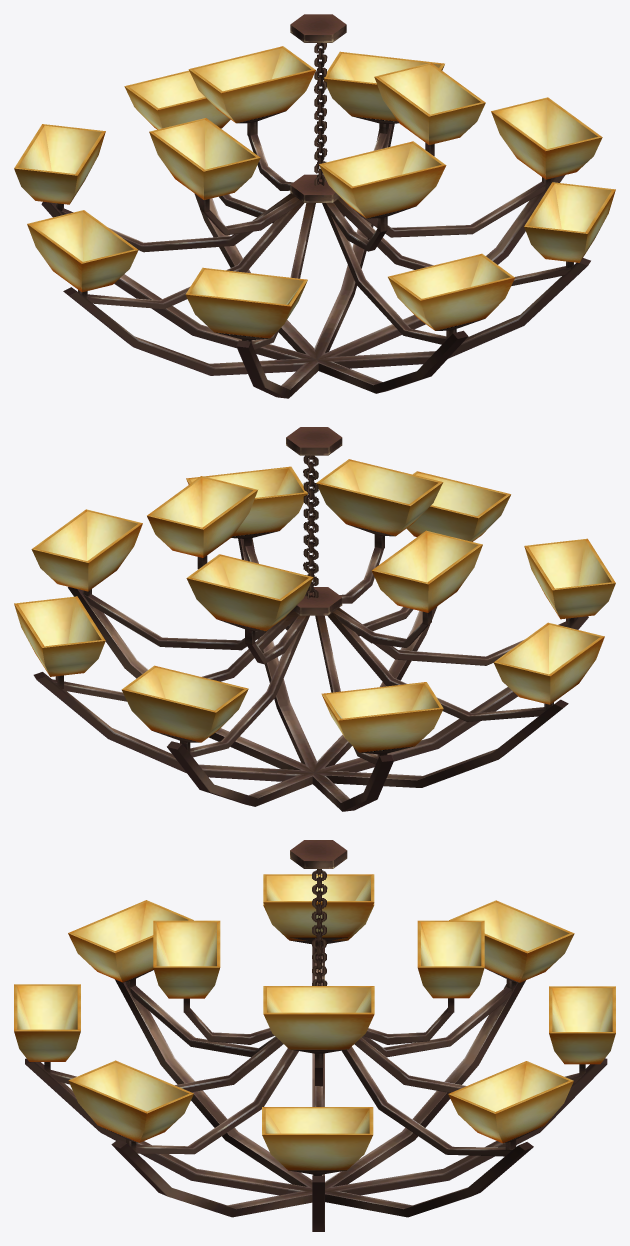
File: furni_0200703.FBX
The picture shows the model from 3 angles, top to bottom: view 1: azimuth 30°, elevation 25°; view 2: azimuth 150°, elevation 25°; view 3: azimuth 270°, elevation 25°; orthographic projection.
Visible parts, largest first — view 1: furni_0200703; view 2: furni_0200703; view 3: furni_0200703.
Boxes of the visible parts, x1,y1,x2,y2 form: furni_0200703: (14, 14, 615, 398); furni_0200703: (14, 427, 615, 811); furni_0200703: (14, 840, 615, 1231).
Bounding box in the file's own units: 127 × 80.34 × 126.
Materials: 1 (1 with a texture image).
